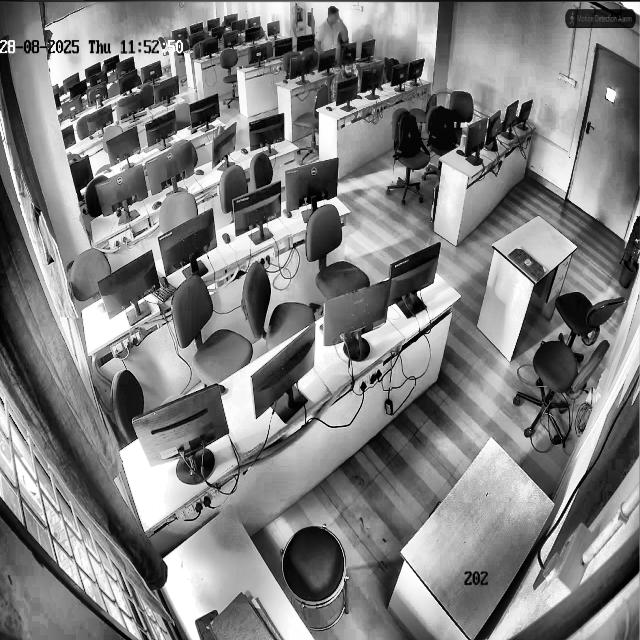Not Focus: (325, 5, 342, 30)
